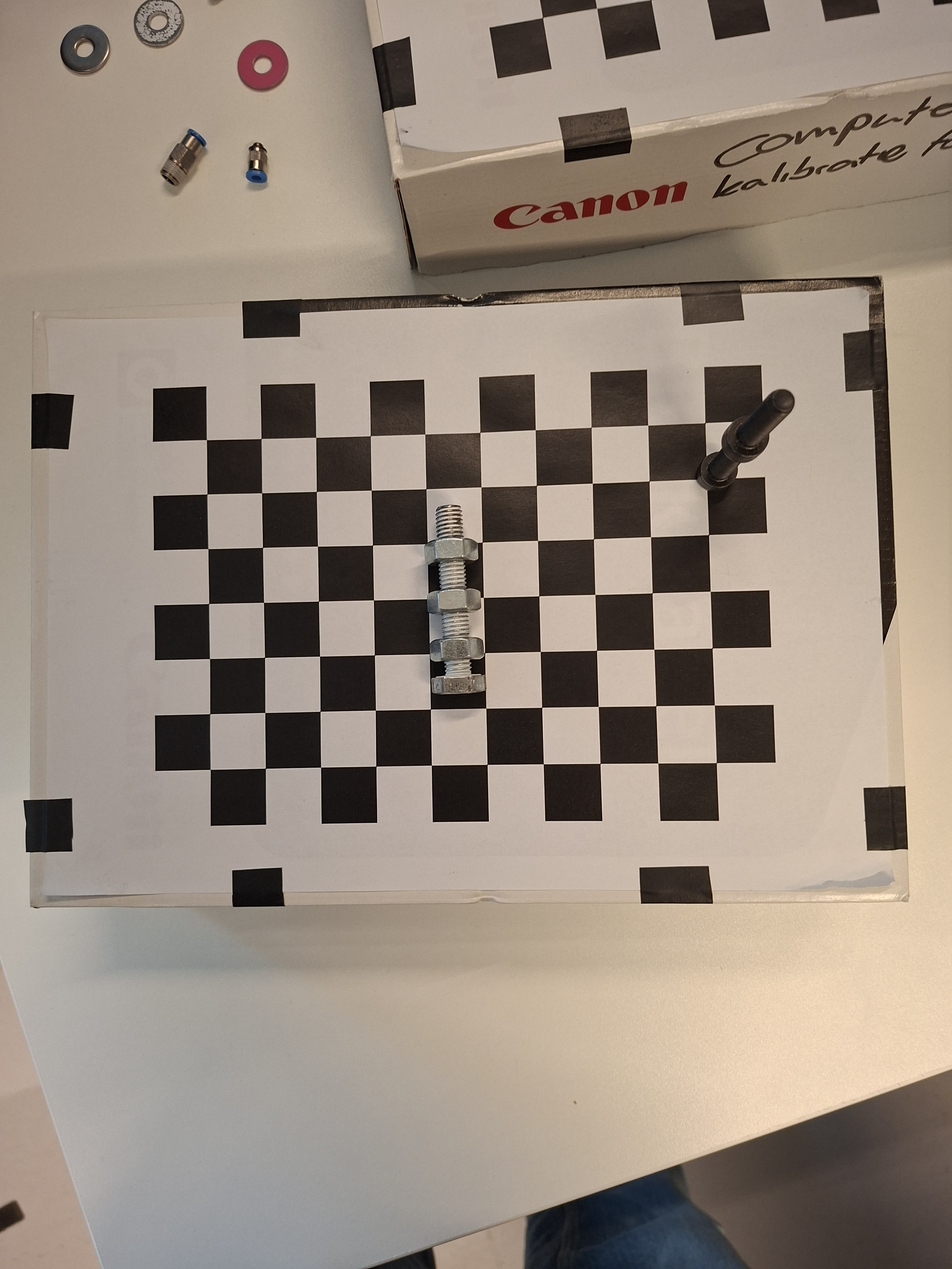allen_screw: (708, 367, 803, 471), (682, 429, 755, 503)
hex_bolt: (413, 502, 495, 700)
hex_nut: (425, 535, 483, 570), (427, 634, 487, 666), (426, 585, 482, 619)
